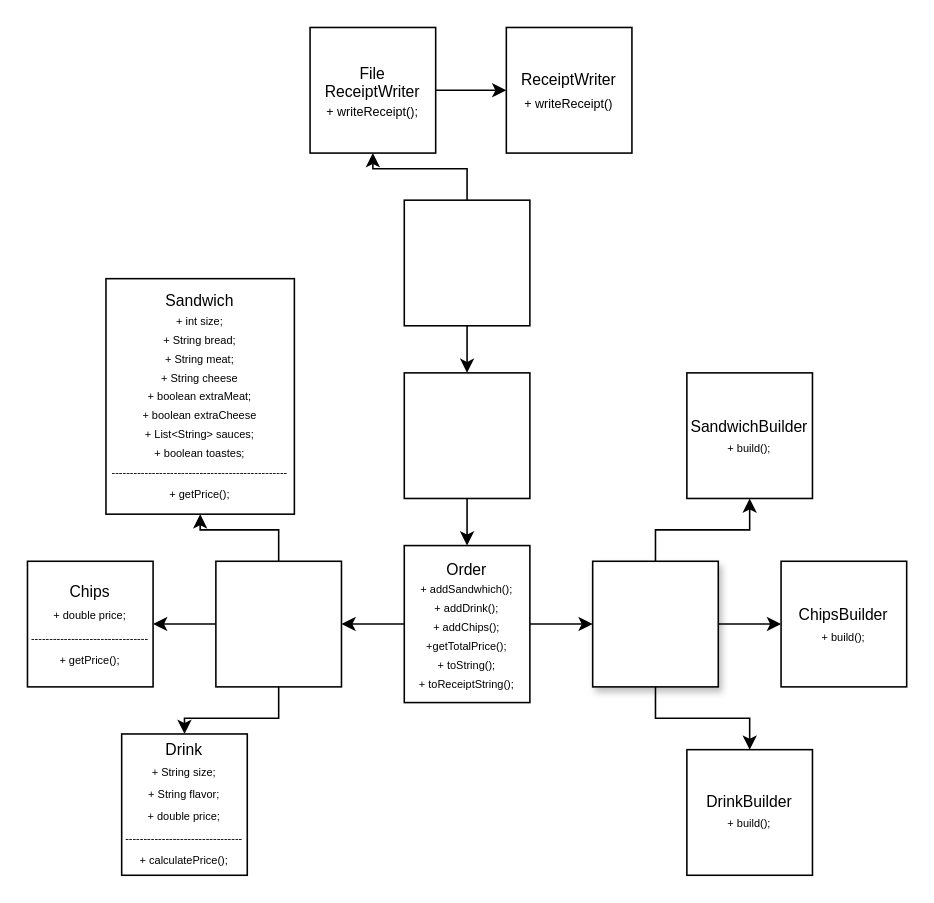
Image size: 934x903. Some labels were removed from this diagram. The shapes that lost their labels are listed below. From the top down, each one's centre as x and y in pixels, then its label:
At (x=466, y=262): "Main/DeliStone new Menu().start() ;".
At (x=466, y=434): "Menu + start(); + takeOrder(); + checkout();".
At (x=277, y=623): "Model".
At (x=656, y=625): "Builder".
